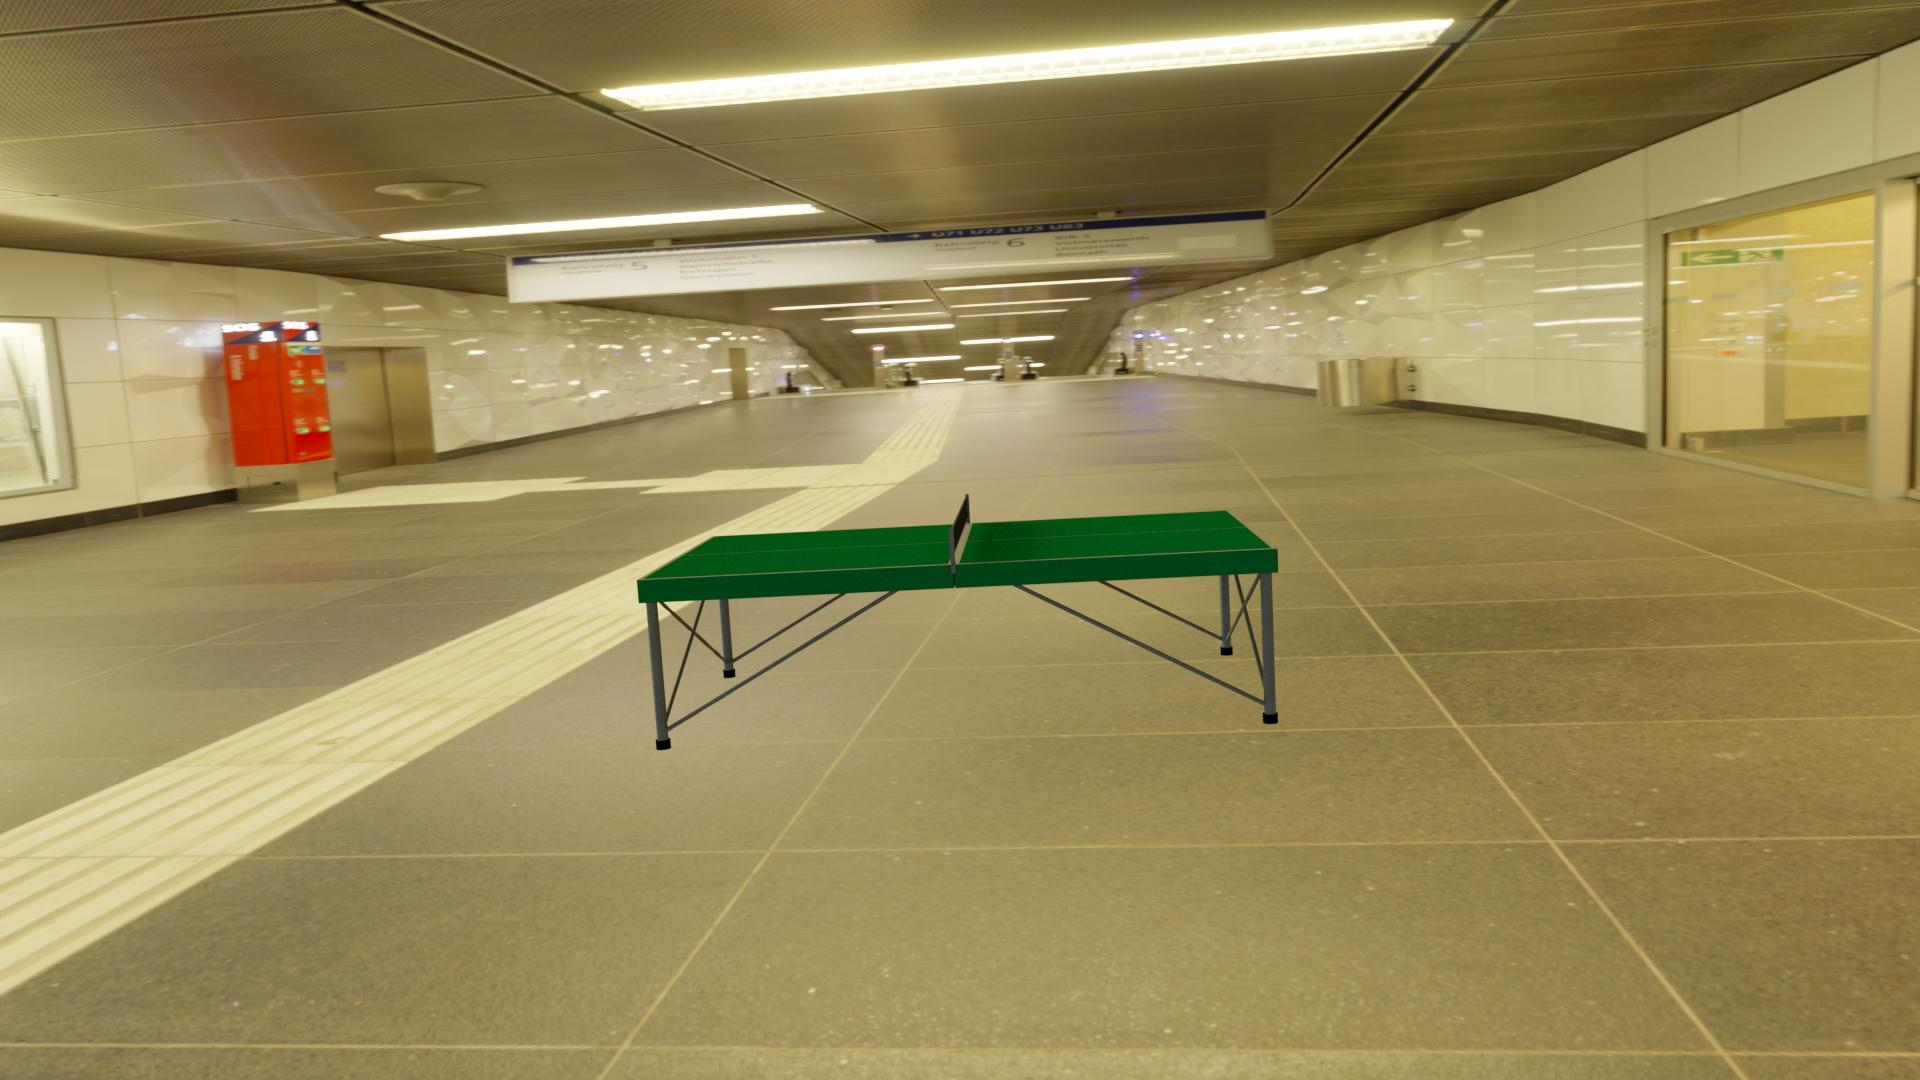table: (642, 510, 1273, 579)
